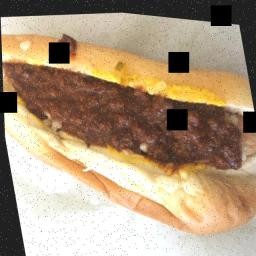hotdog: (229, 106, 256, 166)
